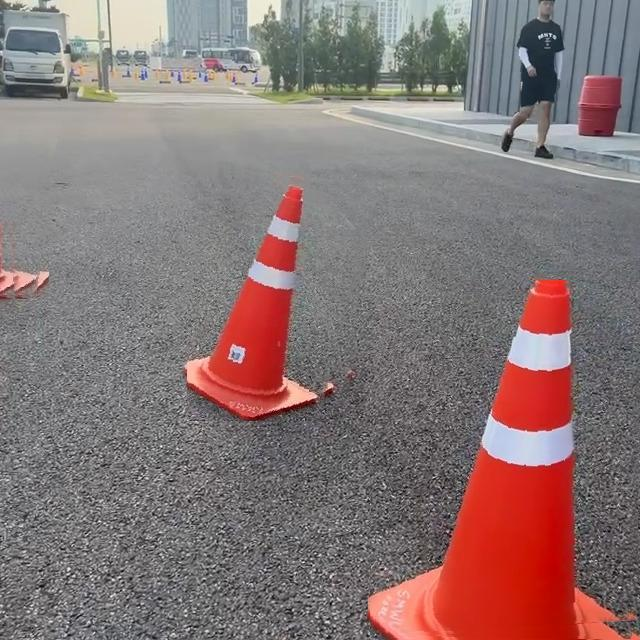fallen_object: (384, 263, 640, 640), (129, 170, 333, 454)
